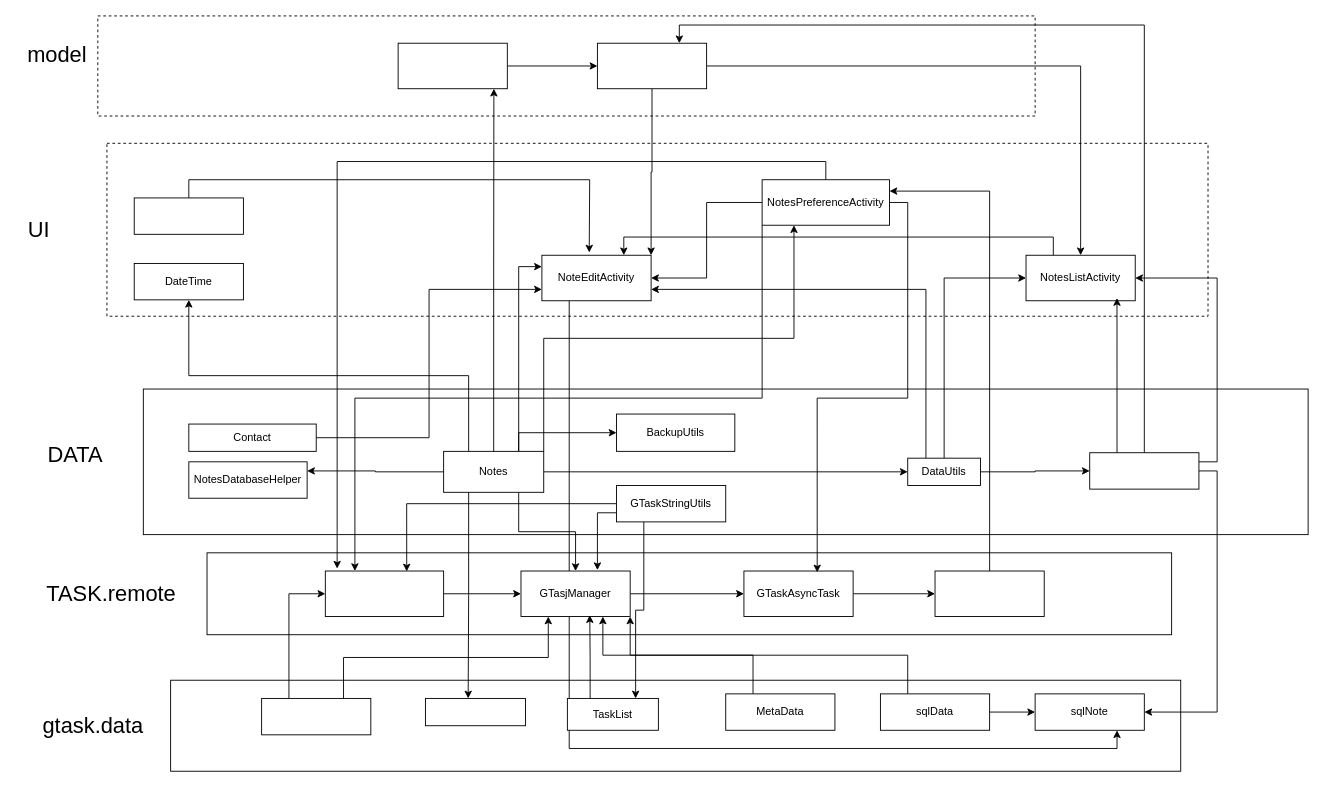
This 1324x787 diagram has some shape labels left out. Each missing label, with the box of its shape:
Alarm: (133, 197, 243, 234)
GTaskClient: (324, 570, 444, 617)
GTaskSyncService: (934, 570, 1044, 617)
Node: (261, 698, 371, 735)
Note: (397, 42, 507, 89)
ResourceParser: (1089, 452, 1199, 489)
Task: (425, 698, 526, 726)
WorkingNote: (597, 42, 707, 89)
